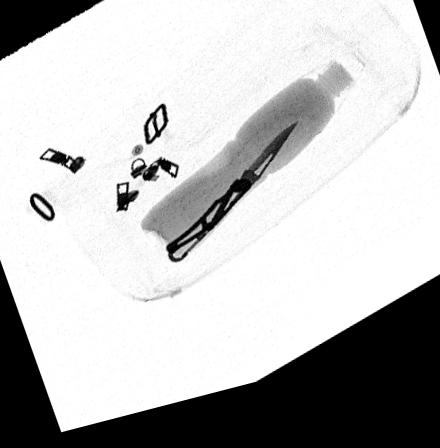Knife: (164, 137, 299, 273)
